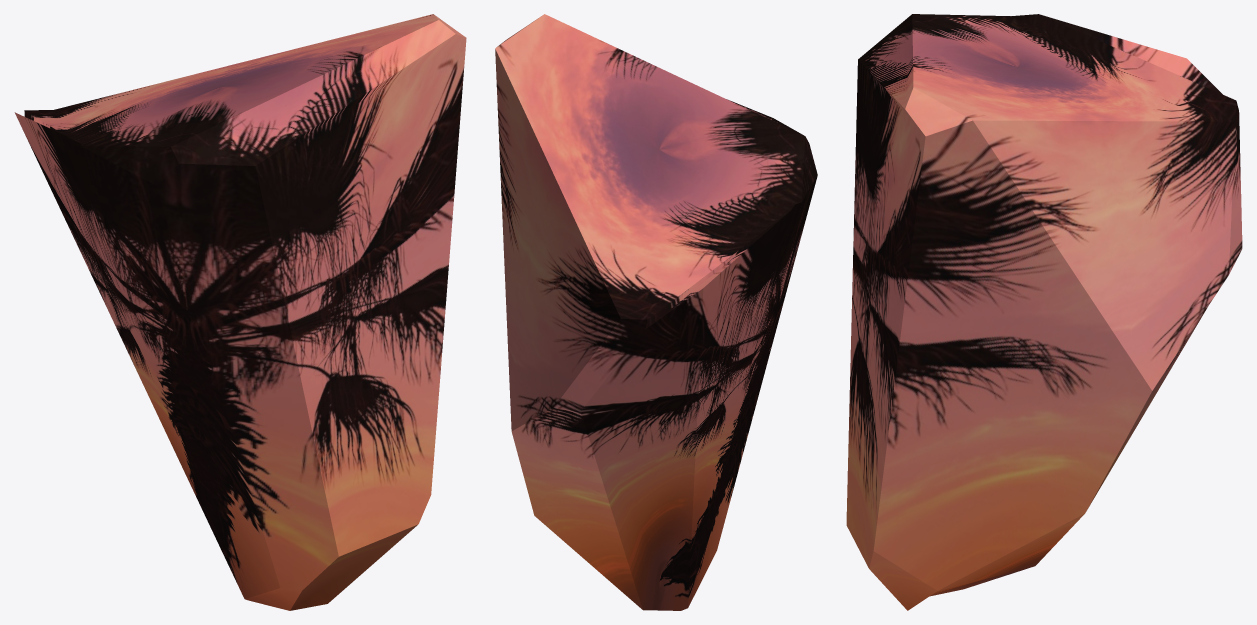
3 renders of one model, left to right at view 1: azimuth 30°, elevation 25°; view 2: azimuth 150°, elevation 25°; view 3: azimuth 270°, elevation 25°, orthographic. The views are drawn at different scales.
Visible parts, largest first — view 1: 60aa; view 2: 60aa; view 3: 60aa.
Part boxes in pixels (x1,y1,x2,y2): 60aa: [14, 14, 466, 610]; 60aa: [495, 14, 817, 610]; 60aa: [846, 14, 1242, 610].
Bounding box in the file's own units: 9.74 × 14.98 × 9.17.
Materials: 1 (1 with a texture image).
